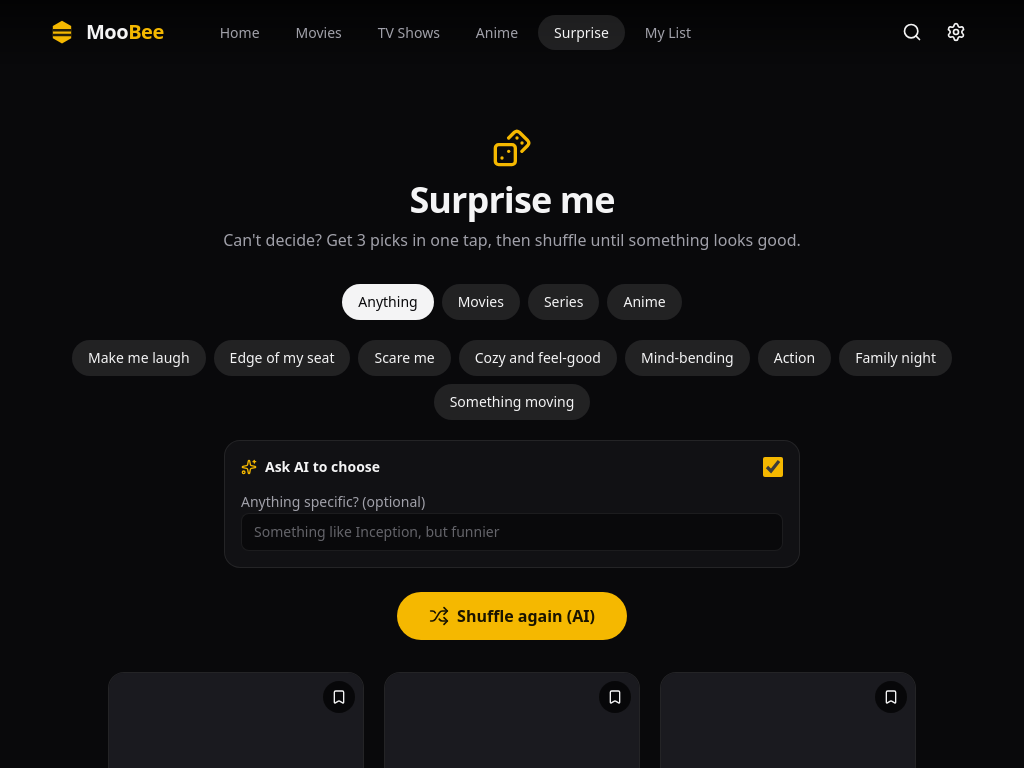
Test: Surprise page › with an AI key › falls back when none of the AI’s titles check out
Click the button "Shuffle again (AI)" at (512, 616), box [397,592,627,640]
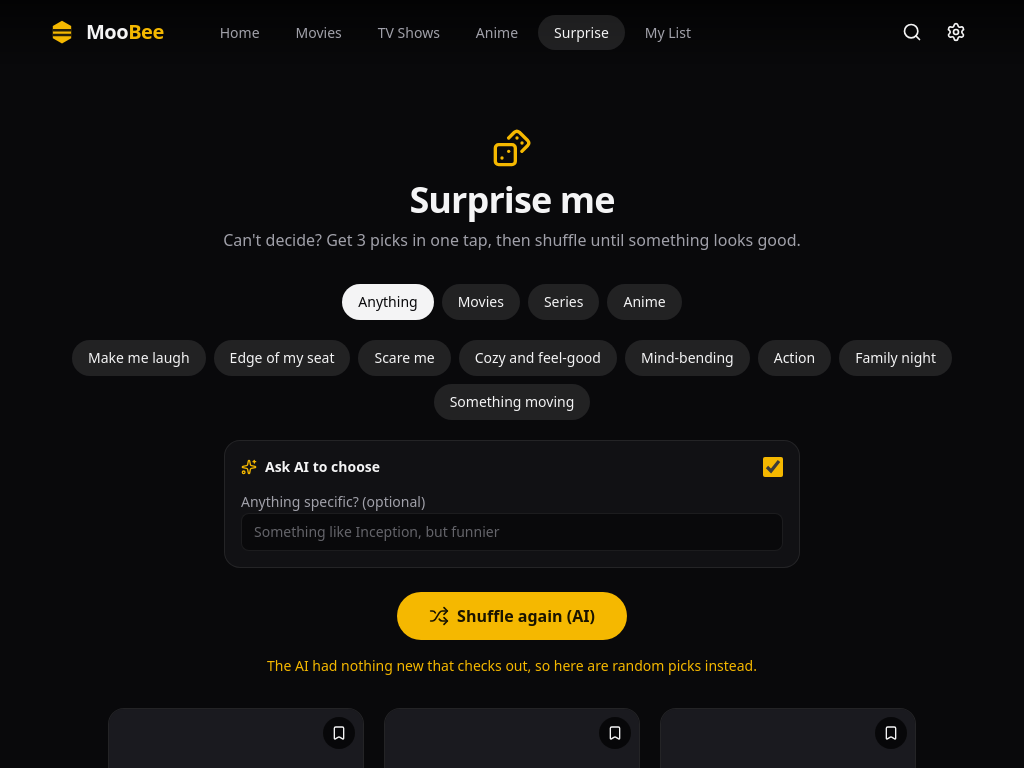
Expected: the text "The AI had nothing new that checks out, so here are random picks instead." is shown, [224,656,800,676]
